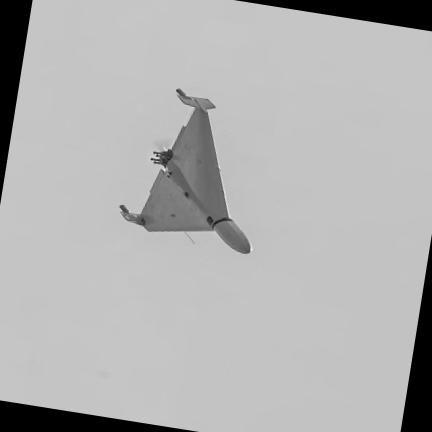Shahed: (119, 89, 251, 253)
